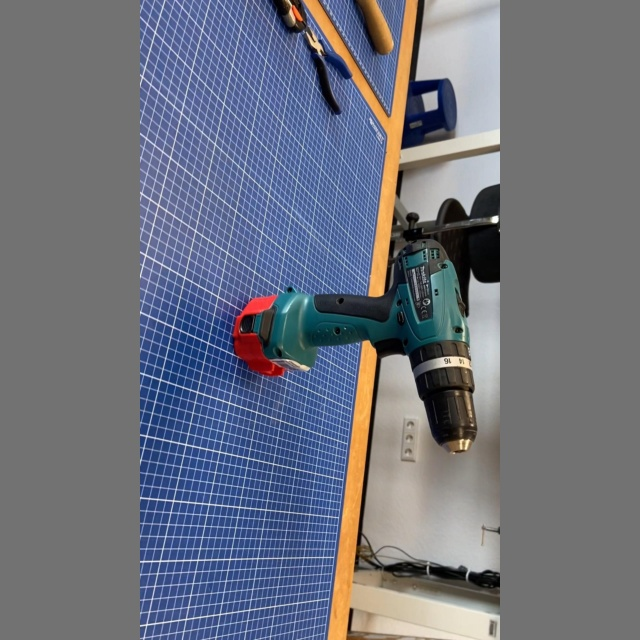drill: (222, 227, 484, 461)
